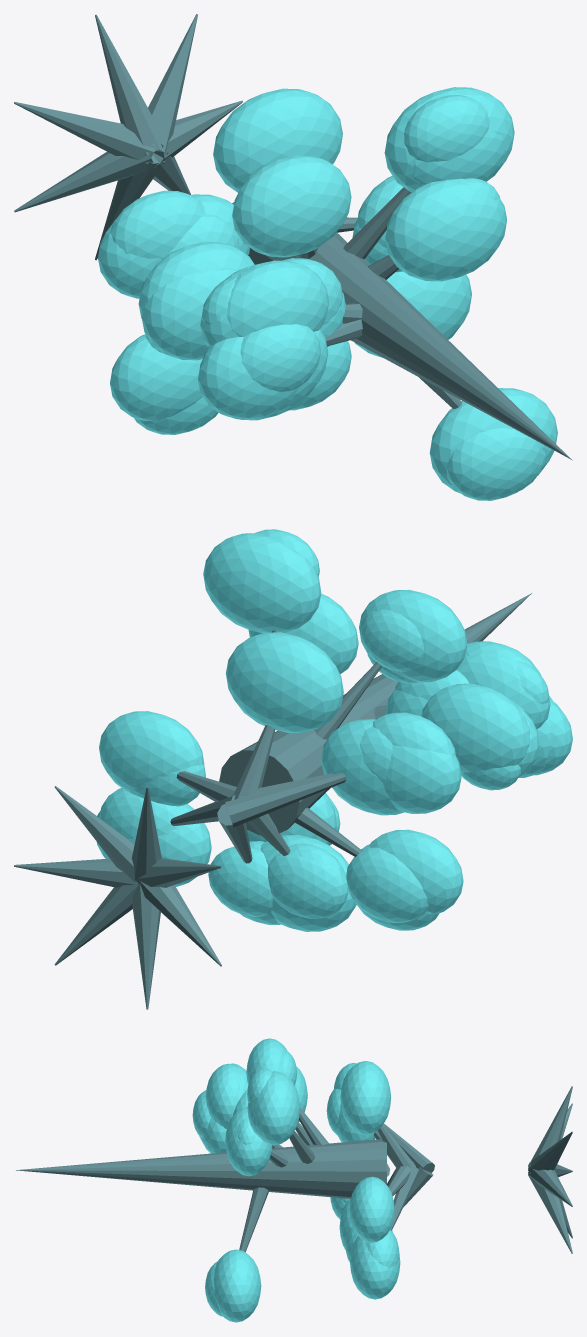
Rendered from Akariz_Tree_Blue_Mangrove.glb.
The picture shows the model from 3 angles, top to bottom: view 1: azimuth 30°, elevation 25°; view 2: azimuth 150°, elevation 25°; view 3: azimuth 270°, elevation 25°; orthographic projection. The views are drawn at different scales.
Parts seen in each view (by area): view 1: Akariz_Tree_Blue_Mangrove_trunk, Akariz_Tree_Blue_Mangrove_leaf13_3, Akariz_Tree_Blue_Mangrove_leaf7_3, Akariz_Tree_Blue_Mangrove_leaf11_0, Akariz_Tree_Blue_Mangrove_leaf4_2, Akariz_Tree_Blue_Mangrove_leaf10_2, Akariz_Tree_Blue_Mangrove_leaf15_2, Akariz_Tree_Blue_Mangrove_leaf8_0, Akariz_Tree_Blue_Mangrove_leaf12_2, Akariz_Tree_Blue_Mangrove_leaf14_0, Akariz_Tree_Blue_Mangrove_leaf0_1, Akariz_Tree_Blue_Mangrove_leaf14_1 (+23 smaller); view 2: Akariz_Tree_Blue_Mangrove_leaf11_0, Akariz_Tree_Blue_Mangrove_leaf0_2, Akariz_Tree_Blue_Mangrove_leaf8_2, Akariz_Tree_Blue_Mangrove_trunk, Akariz_Tree_Blue_Mangrove_leaf9_1, Akariz_Tree_Blue_Mangrove_leaf7_3, Akariz_Tree_Blue_Mangrove_leaf10_1, Akariz_Tree_Blue_Mangrove_leaf12_1, Akariz_Tree_Blue_Mangrove_leaf2_2, Akariz_Tree_Blue_Mangrove_leaf10_2, Akariz_Tree_Blue_Mangrove_leaf5_3, Akariz_Tree_Blue_Mangrove_leaf3_3 (+36 smaller); view 3: Akariz_Tree_Blue_Mangrove_trunk, Akariz_Tree_Blue_Mangrove_leaf11_0, Akariz_Tree_Blue_Mangrove_leaf15_3, Akariz_Tree_Blue_Mangrove_leaf0_2, Akariz_Tree_Blue_Mangrove_leaf9_1, Akariz_Tree_Blue_Mangrove_leaf1_1, Akariz_Tree_Blue_Mangrove_leaf13_3, Akariz_Tree_Blue_Mangrove_leaf4_2, Akariz_Tree_Blue_Mangrove_leaf7_3, Akariz_Tree_Blue_Mangrove_root6, Akariz_Tree_Blue_Mangrove_branch15, Akariz_Tree_Blue_Mangrove_leaf1_3 (+16 smaller).
Part boxes in pixels (x1,y1,x2,y2): Akariz_Tree_Blue_Mangrove_trunk: [248, 232, 572, 460]; Akariz_Tree_Blue_Mangrove_leaf13_3: [385, 178, 506, 281]; Akariz_Tree_Blue_Mangrove_leaf7_3: [232, 155, 351, 257]; Akariz_Tree_Blue_Mangrove_leaf11_0: [213, 88, 342, 192]; Akariz_Tree_Blue_Mangrove_leaf4_2: [226, 260, 328, 336]; Akariz_Tree_Blue_Mangrove_leaf10_2: [110, 334, 202, 421]; Akariz_Tree_Blue_Mangrove_leaf15_2: [446, 428, 542, 500]; Akariz_Tree_Blue_Mangrove_leaf8_0: [141, 269, 236, 360]; Akariz_Tree_Blue_Mangrove_leaf12_2: [110, 190, 205, 259]; Akariz_Tree_Blue_Mangrove_leaf14_0: [198, 336, 298, 419]; Akariz_Tree_Blue_Mangrove_leaf0_1: [404, 95, 489, 162]; Akariz_Tree_Blue_Mangrove_leaf14_1: [240, 324, 320, 391]; Akariz_Tree_Blue_Mangrove_leaf11_0: [225, 632, 343, 733]; Akariz_Tree_Blue_Mangrove_leaf0_2: [203, 533, 321, 633]; Akariz_Tree_Blue_Mangrove_leaf8_2: [421, 683, 529, 773]; Akariz_Tree_Blue_Mangrove_trunk: [219, 593, 531, 835]; Akariz_Tree_Blue_Mangrove_leaf9_1: [99, 711, 204, 791]; Akariz_Tree_Blue_Mangrove_leaf7_3: [359, 589, 467, 682]; Akariz_Tree_Blue_Mangrove_leaf10_1: [346, 847, 428, 922]; Akariz_Tree_Blue_Mangrove_leaf12_1: [382, 745, 461, 813]; Akariz_Tree_Blue_Mangrove_leaf2_2: [268, 851, 348, 918]; Akariz_Tree_Blue_Mangrove_leaf10_2: [369, 829, 463, 913]; Akariz_Tree_Blue_Mangrove_leaf5_3: [321, 719, 403, 815]; Akariz_Tree_Blue_Mangrove_leaf3_3: [208, 846, 272, 916]; Akariz_Tree_Blue_Mangrove_trunk: [16, 1139, 386, 1198]; Akariz_Tree_Blue_Mangrove_leaf11_0: [340, 1061, 391, 1134]; Akariz_Tree_Blue_Mangrove_leaf15_3: [214, 1249, 261, 1322]; Akariz_Tree_Blue_Mangrove_leaf0_2: [253, 1071, 300, 1145]; Akariz_Tree_Blue_Mangrove_leaf9_1: [349, 1176, 394, 1242]; Akariz_Tree_Blue_Mangrove_leaf1_1: [350, 1236, 400, 1299]; Akariz_Tree_Blue_Mangrove_leaf13_3: [225, 1107, 272, 1176]; Akariz_Tree_Blue_Mangrove_leaf4_2: [205, 1063, 240, 1126]; Akariz_Tree_Blue_Mangrove_leaf7_3: [246, 1038, 287, 1084]; Akariz_Tree_Blue_Mangrove_root6: [528, 1172, 572, 1253]; Akariz_Tree_Blue_Mangrove_branch15: [239, 1187, 268, 1252]; Akariz_Tree_Blue_Mangrove_leaf1_3: [365, 1230, 399, 1267].
Size of the model in its own units: 4.65 by 4.23 by 8.99.
